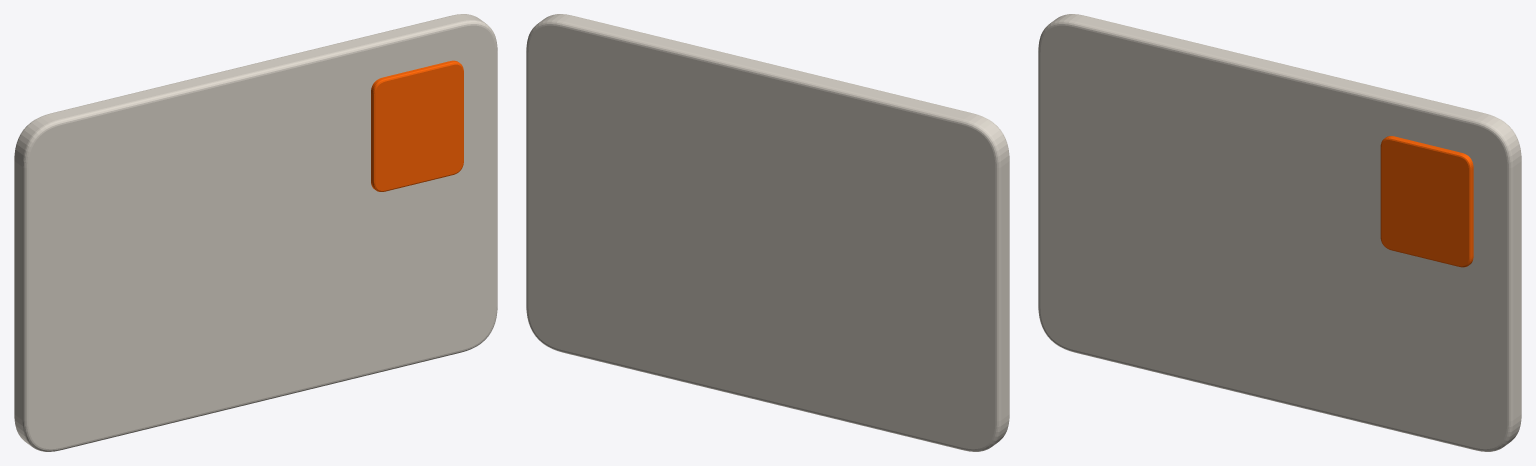
File: dispatch-card.glb
3 views of the same model, side by side, from view 1: azimuth 30°, elevation 25°; view 2: azimuth 150°, elevation 25°; view 3: azimuth 330°, elevation 25° (orthographic).
Visible parts, largest first — view 1: dispatch_card_body, dispatch_postage_stamp; view 2: dispatch_card_body; view 3: dispatch_card_body, dispatch_postage_stamp.
Part boxes in pixels (<box>): dispatch_card_body: <box>14,14,497,451</box>; dispatch_postage_stamp: <box>371,60,463,191</box>; dispatch_card_body: <box>526,14,1009,451</box>; dispatch_card_body: <box>1038,14,1521,451</box>; dispatch_postage_stamp: <box>1380,136,1473,267</box>.
Size of the model in its own units: 2.28 by 1.52 by 0.126.
